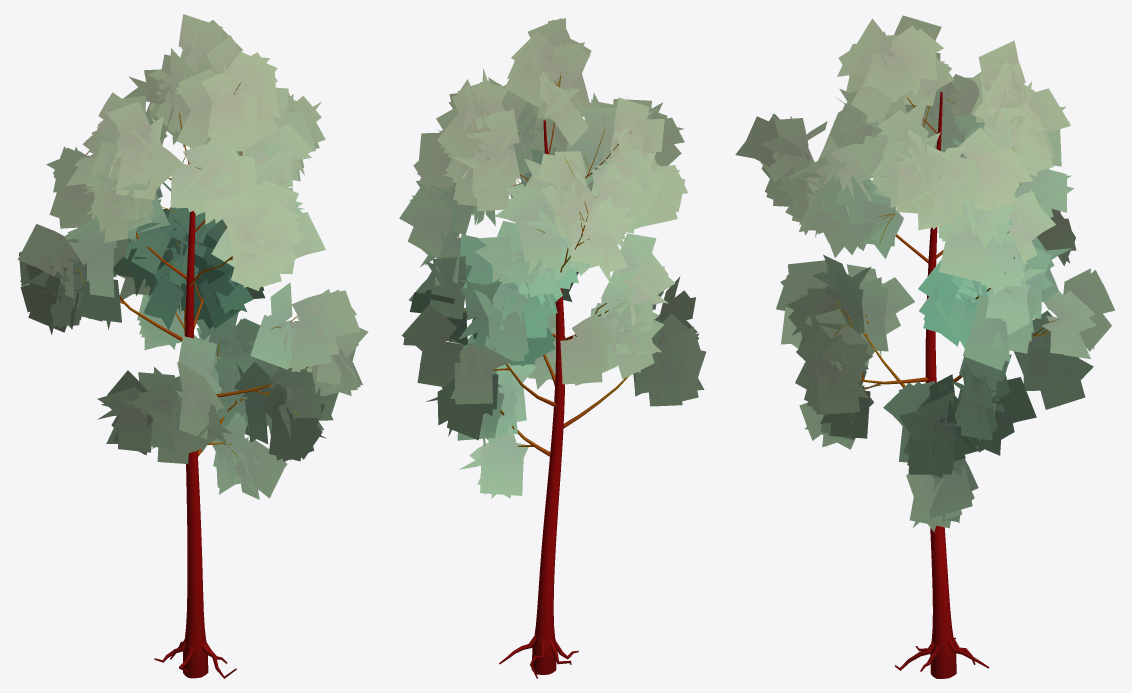
Rendered from alder_a.glb.
3 views of the same model, side by side, from view 1: azimuth 30°, elevation 25°; view 2: azimuth 150°, elevation 25°; view 3: azimuth 270°, elevation 25° (orthographic). The views are drawn at different scales.
Parts seen in each view (by area): view 1: LOD0; view 2: LOD0; view 3: LOD0.
Boxes of the visible parts, left/top/right/bottom form: LOD0: left=17, top=14, right=368, bottom=678; LOD0: left=399, top=18, right=706, bottom=678; LOD0: left=735, top=15, right=1114, bottom=678.
Size of what is drawn, in the model's own units: 7.14 by 16.15 by 8.45.
